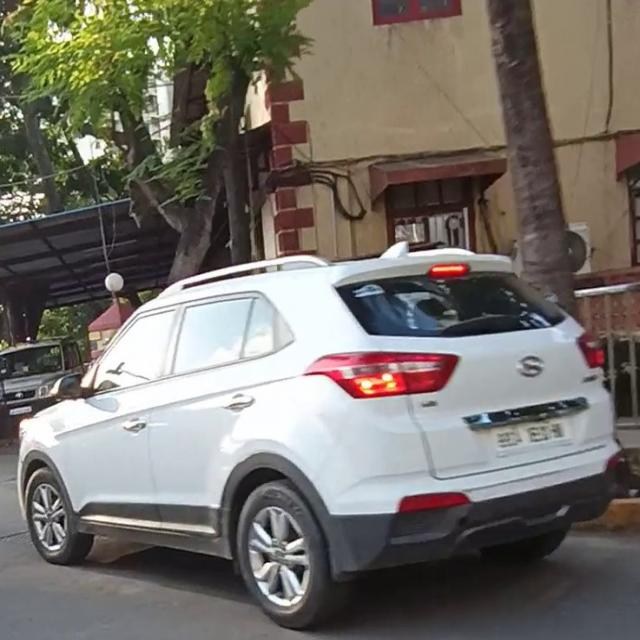license_plate: (489, 404, 575, 458)
